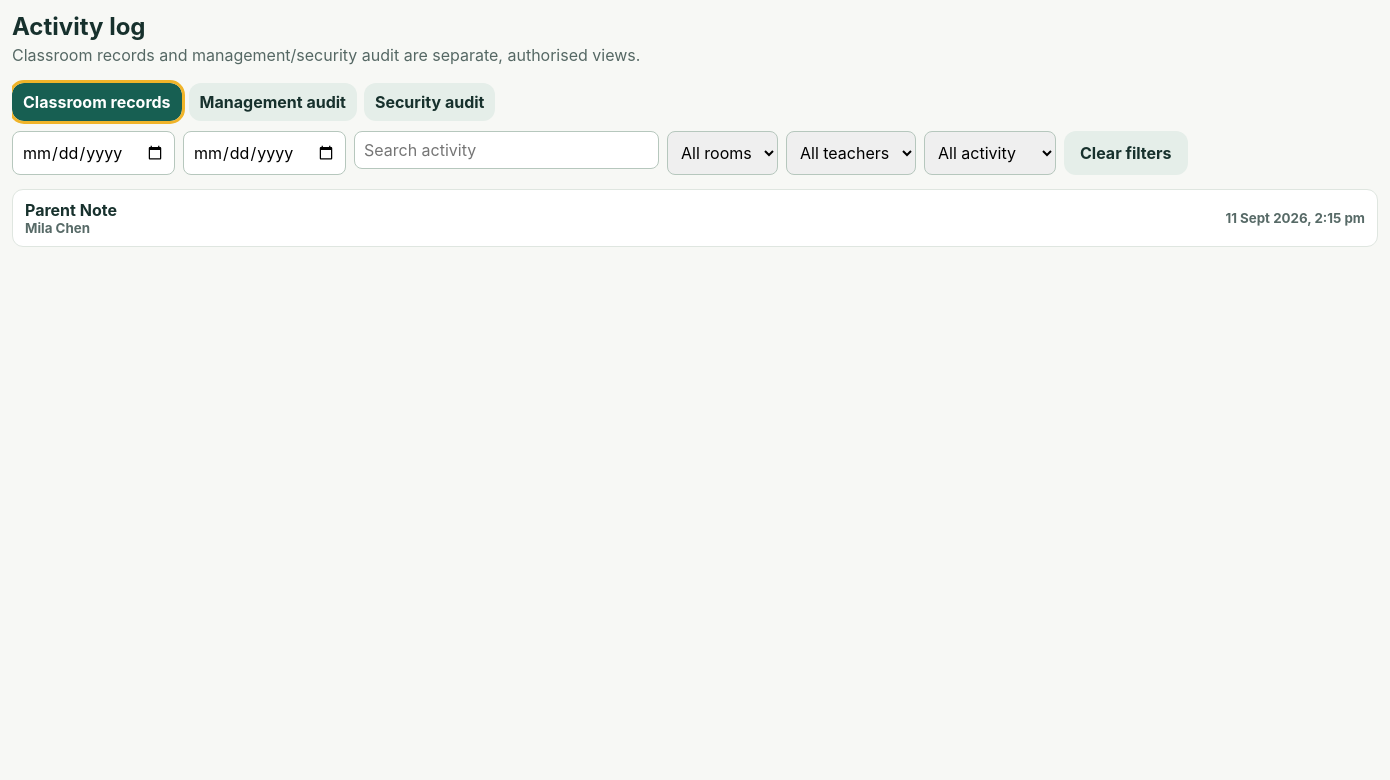
Test case: Activity note presentation and privileged reveal › shows softened Parent text immediately and lazily reveals audited original inline for Admin
The width and height of the screenshot is (1390, 780).
Click the button "Parent Note Mila Chen 11 Sept 2026, 2:15 pm". click: point(71, 210)
box: [12,189,1378,247]
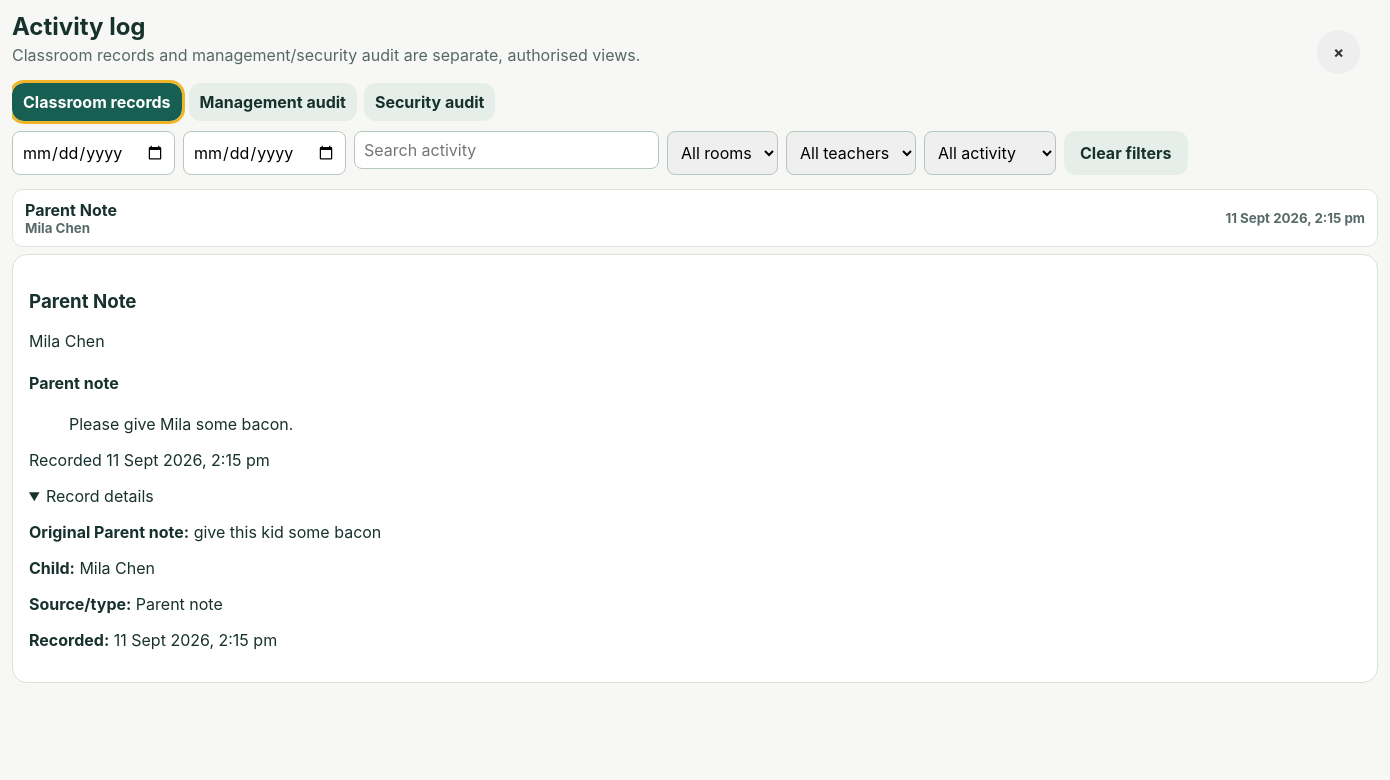
Check: the text "Please give Mila some bacon." is shown, box [69,414,293,434]
Check: the text "give this kid some bacon" is shown, box [194,522,381,542]
